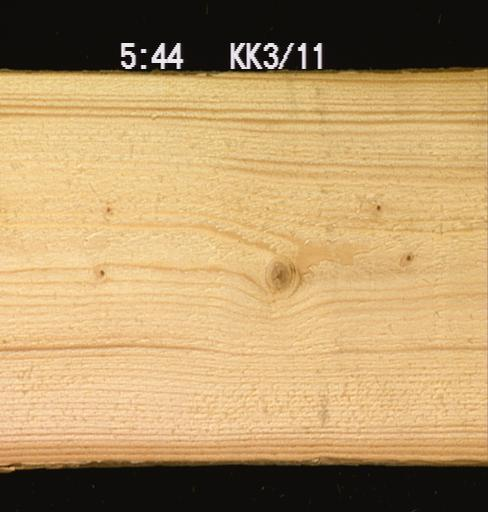small_knot: (103, 204, 113, 214), (96, 267, 106, 277), (375, 203, 381, 211)
sound_knot: (268, 259, 294, 296), (397, 247, 414, 266)
